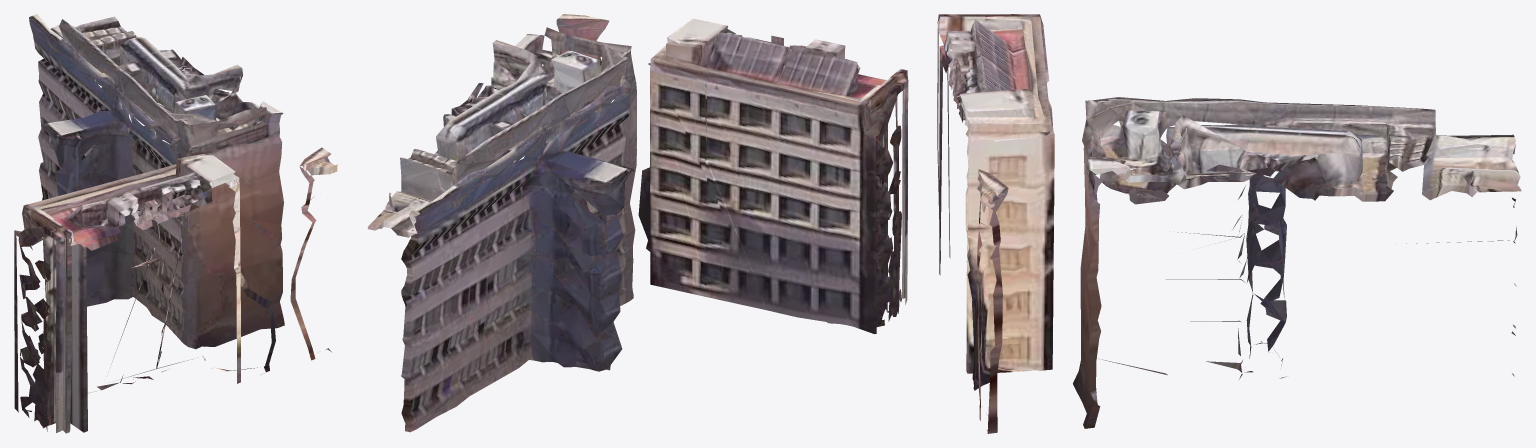
The picture shows the model from 3 angles, left to right: view 1: azimuth 30°, elevation 25°; view 2: azimuth 150°, elevation 25°; view 3: azimuth 270°, elevation 25°; orthographic projection. The views are drawn at different scales.
Parts seen in each view (by area): view 1: Mesh_0; view 2: Mesh_0; view 3: Mesh_0.
Boxes of the visible parts, x1,y1,x2,y2 form: Mesh_0: (14, 14, 337, 433); Mesh_0: (367, 14, 908, 432); Mesh_0: (937, 14, 1521, 433).
Size of the model in its own units: 30.24 by 22.86 by 41.37.
Materials: 1 (1 with a texture image).
